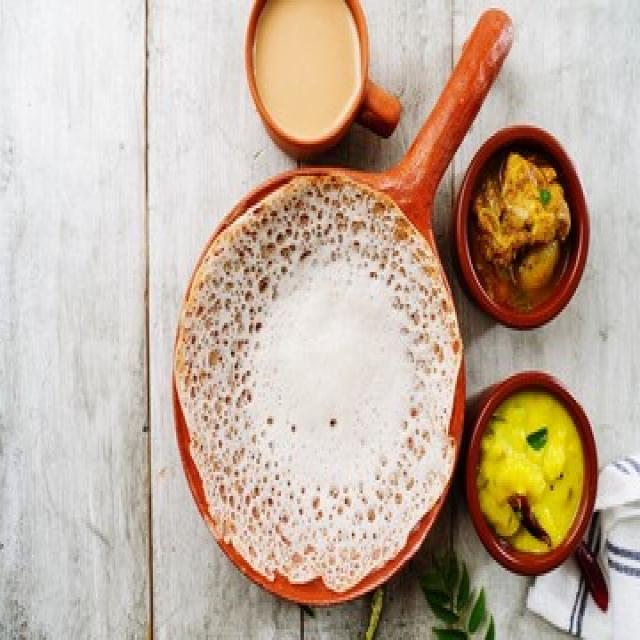AAPAM: (171, 173, 461, 608)
CURRY: (464, 146, 573, 309)
KURMA: (476, 365, 587, 561)
